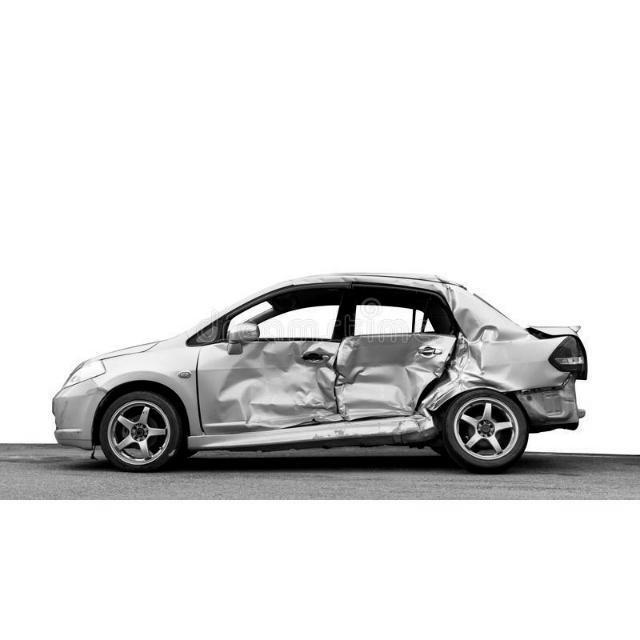Runningboard-Damage: (190, 423, 351, 449), (330, 422, 441, 447)
doorouter-dent: (203, 334, 337, 431), (333, 332, 452, 422)
quaterpanel-dent: (459, 331, 525, 419)
